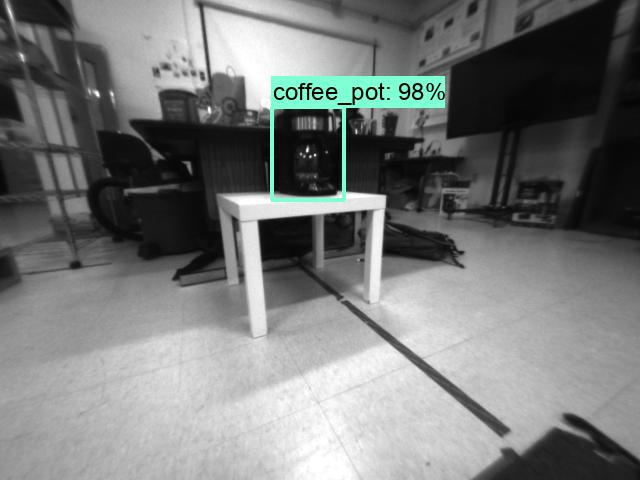coffee_pot: (272, 105, 344, 196)
